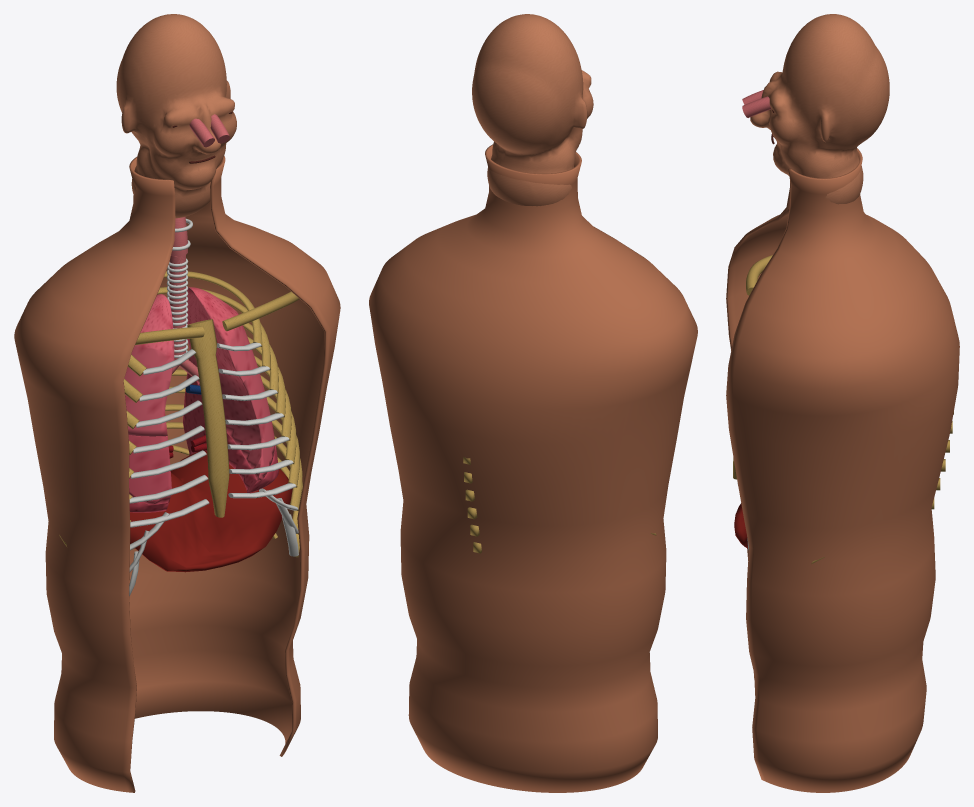
File: respiratory-C7KRseJK.glb
3 views of the same model, side by side, from view 1: azimuth 30°, elevation 25°; view 2: azimuth 150°, elevation 25°; view 3: azimuth 270°, elevation 25° (orthographic).
Parts seen in each view (by area): view 1: body, ribcage, diaphragm, lung_LUL, lung_RUL, airway, lung_RML, lung_LLL; view 2: body; view 3: body, airway, ribcage.
Boxes of the visible parts, x1,y1,x2,y2 form: body: (14, 14, 340, 792); ribcage: (59, 271, 302, 595); diaphragm: (130, 451, 292, 572); lung_LUL: (187, 287, 274, 480); lung_RUL: (124, 294, 174, 436); airway: (167, 114, 229, 458); lung_RML: (128, 435, 171, 504); lung_LLL: (183, 373, 278, 492); body: (369, 14, 697, 792); body: (726, 14, 959, 792); airway: (742, 90, 771, 117); ribcage: (733, 255, 824, 563).
Size of the model in its own units: 2.28 by 5.32 by 1.55.
16 materials, 16 textured.
